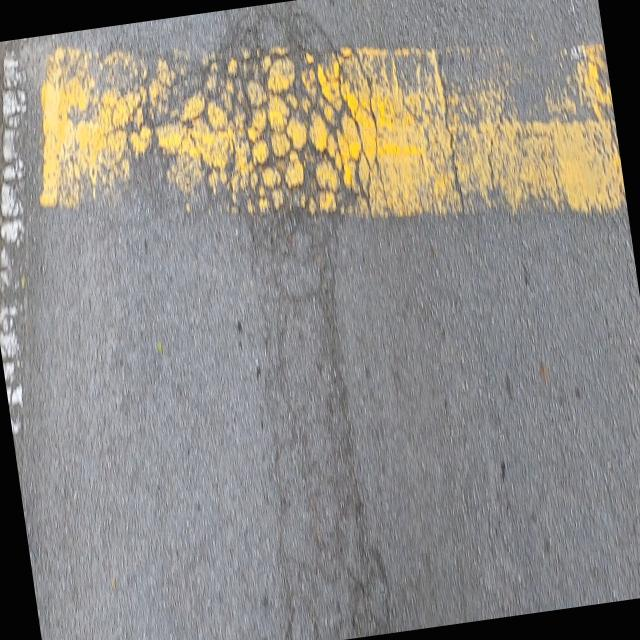Retak-Buaya: (127, 0, 395, 640)
Retak-Memanjang: (432, 50, 471, 221)
